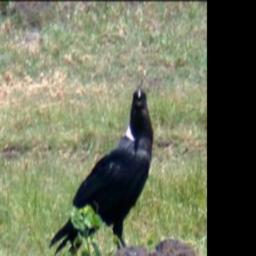Crow: (47, 85, 155, 256)
